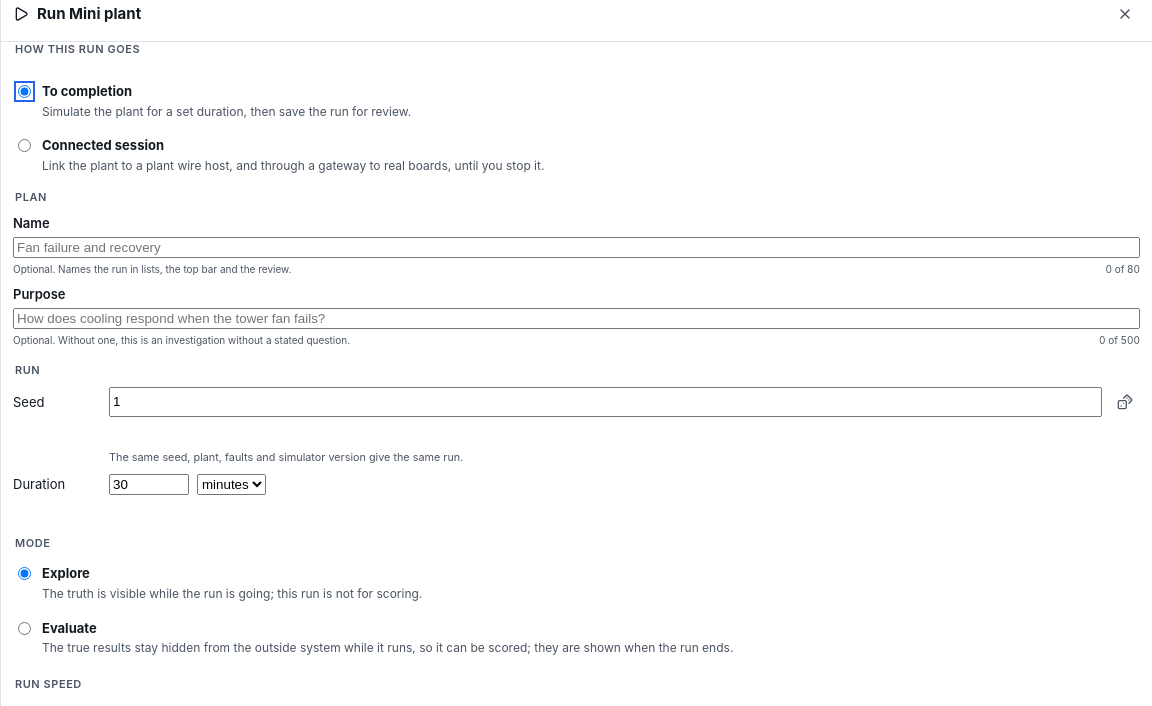
Scenario: the list in effect and the workspace default › reports a default that changed elsewhere and saves nothing
Click the radio button labelled "Connected session" at point(24, 146), box 18,139 -> 31,152
(page scrolled)
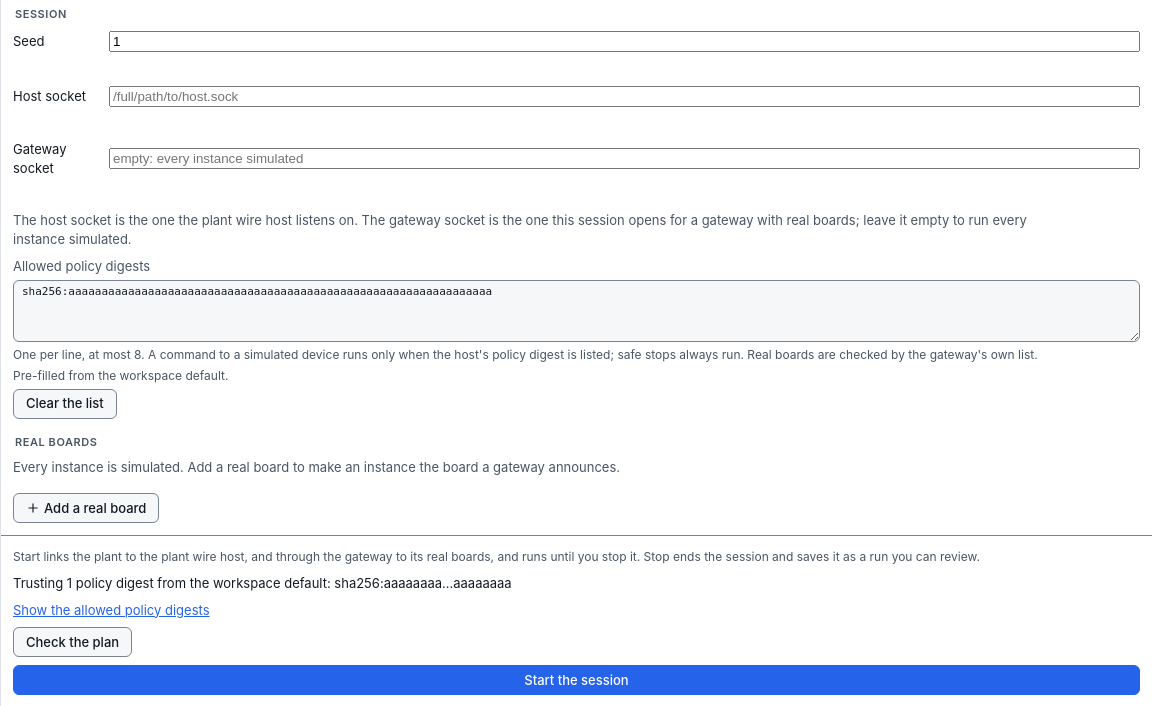
Click the button "Check the plan" at point(73, 642), box 13,627 -> 132,657
(page scrolled)
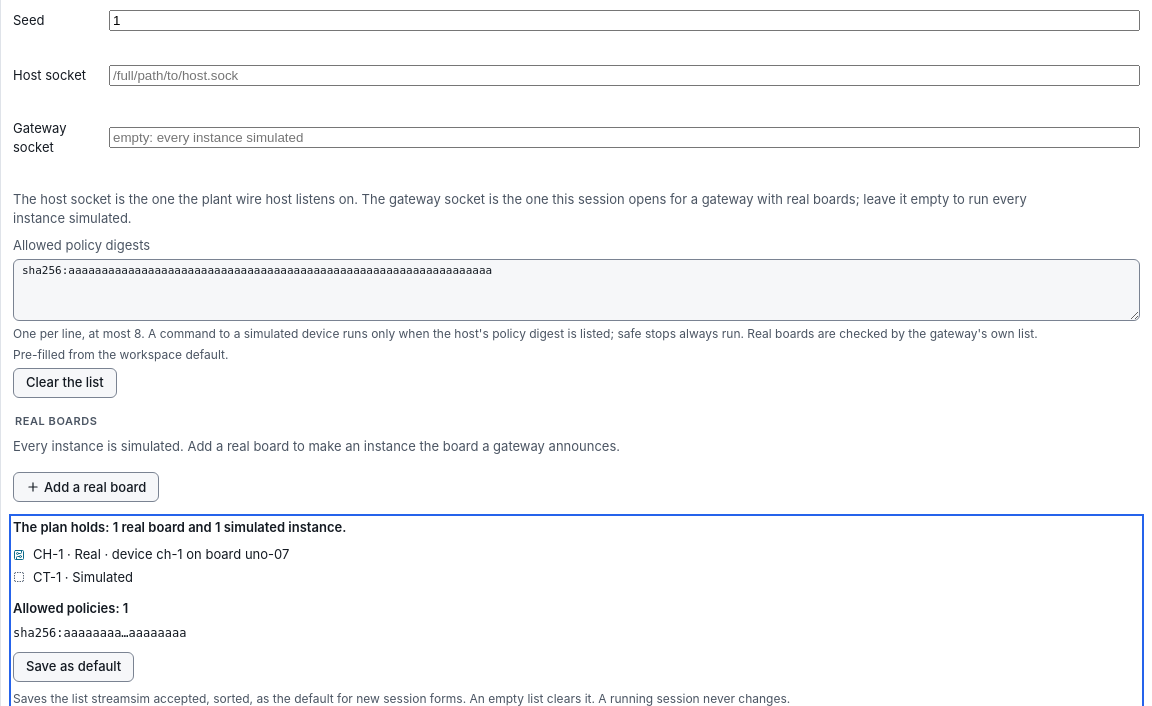
Expected: the element named "Allowed policies in effect" is shown, 13,600 -> 699,640
Click the button "Save as default" at point(74, 667), box 13,652 -> 134,682
(page scrolled)
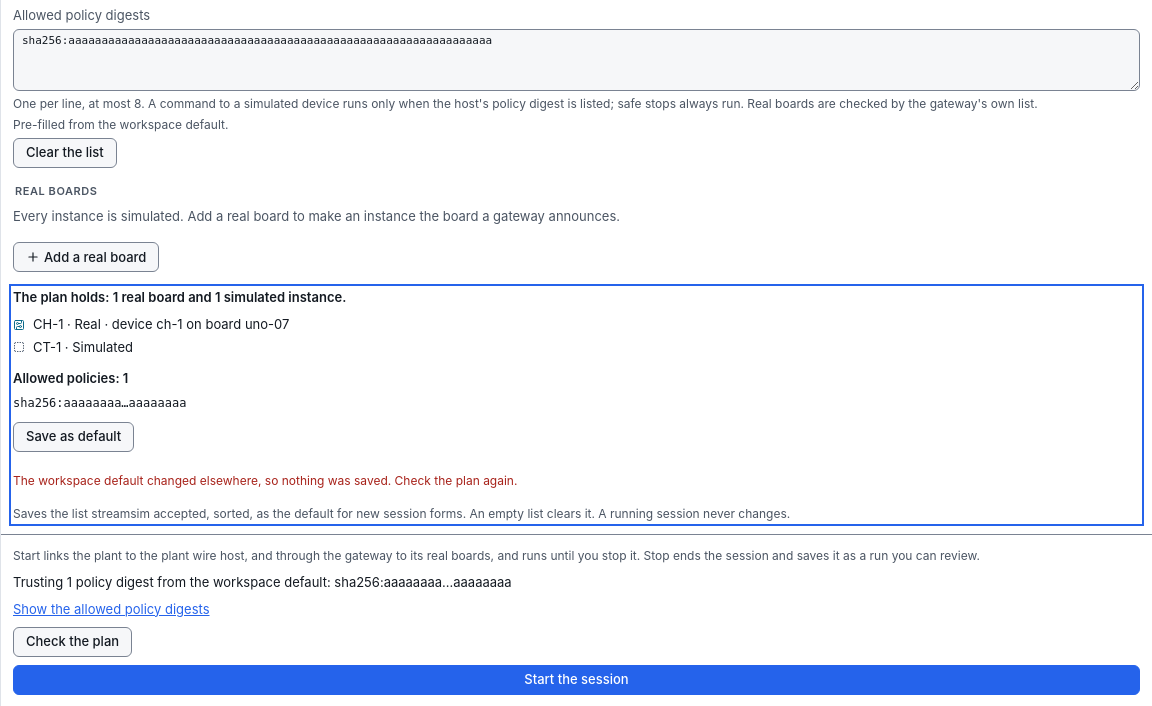
Expected: the 2nd message shows "The workspace default changed elsewhere, so nothing was saved.", 13,473 -> 517,488
